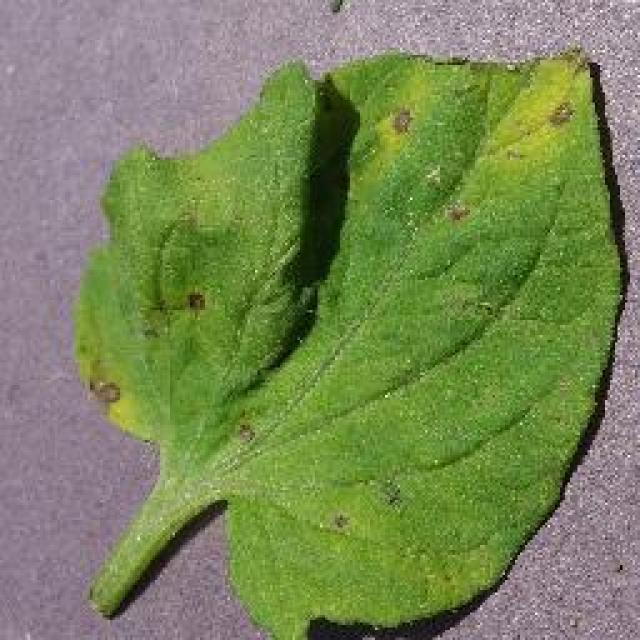Tomato target spot leaf: (75, 47, 630, 640)
